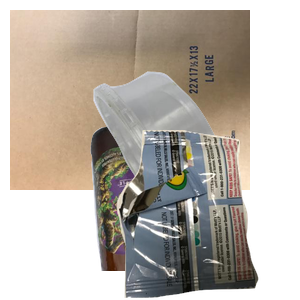cardboard: (10, 10, 250, 190)
glass: (88, 120, 252, 300)
plastic: (91, 69, 300, 249)
trash: (114, 130, 300, 300)
